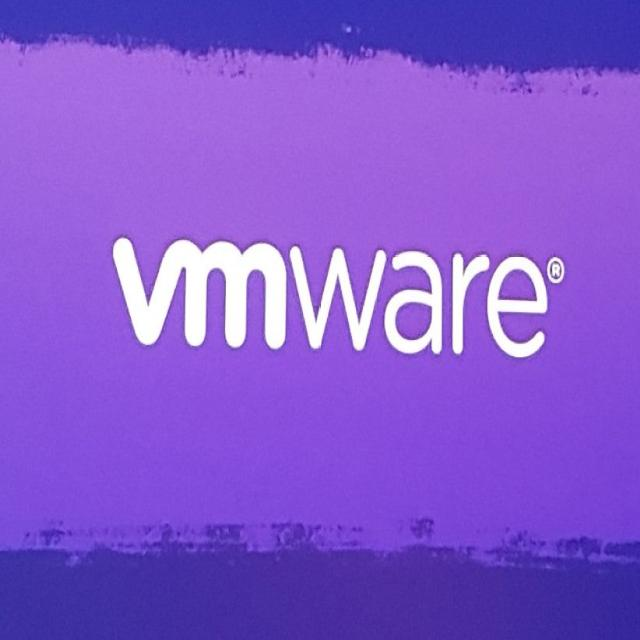vmware: (111, 232, 287, 348)
